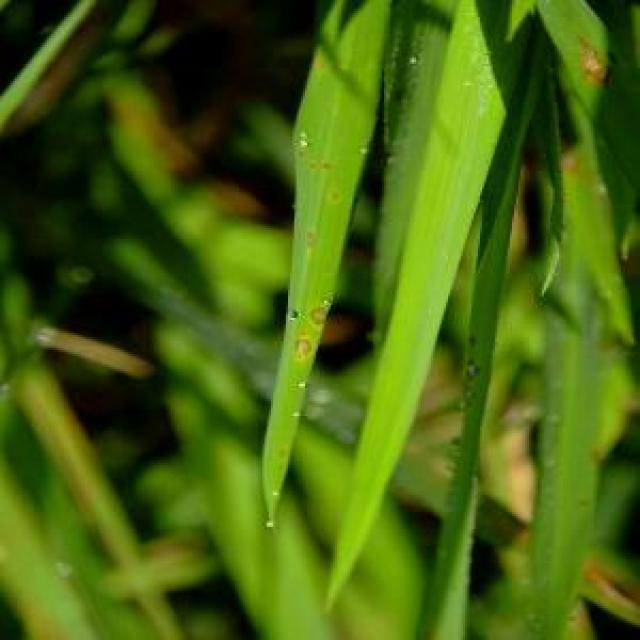Rice_Blast: (300, 286, 346, 335)
